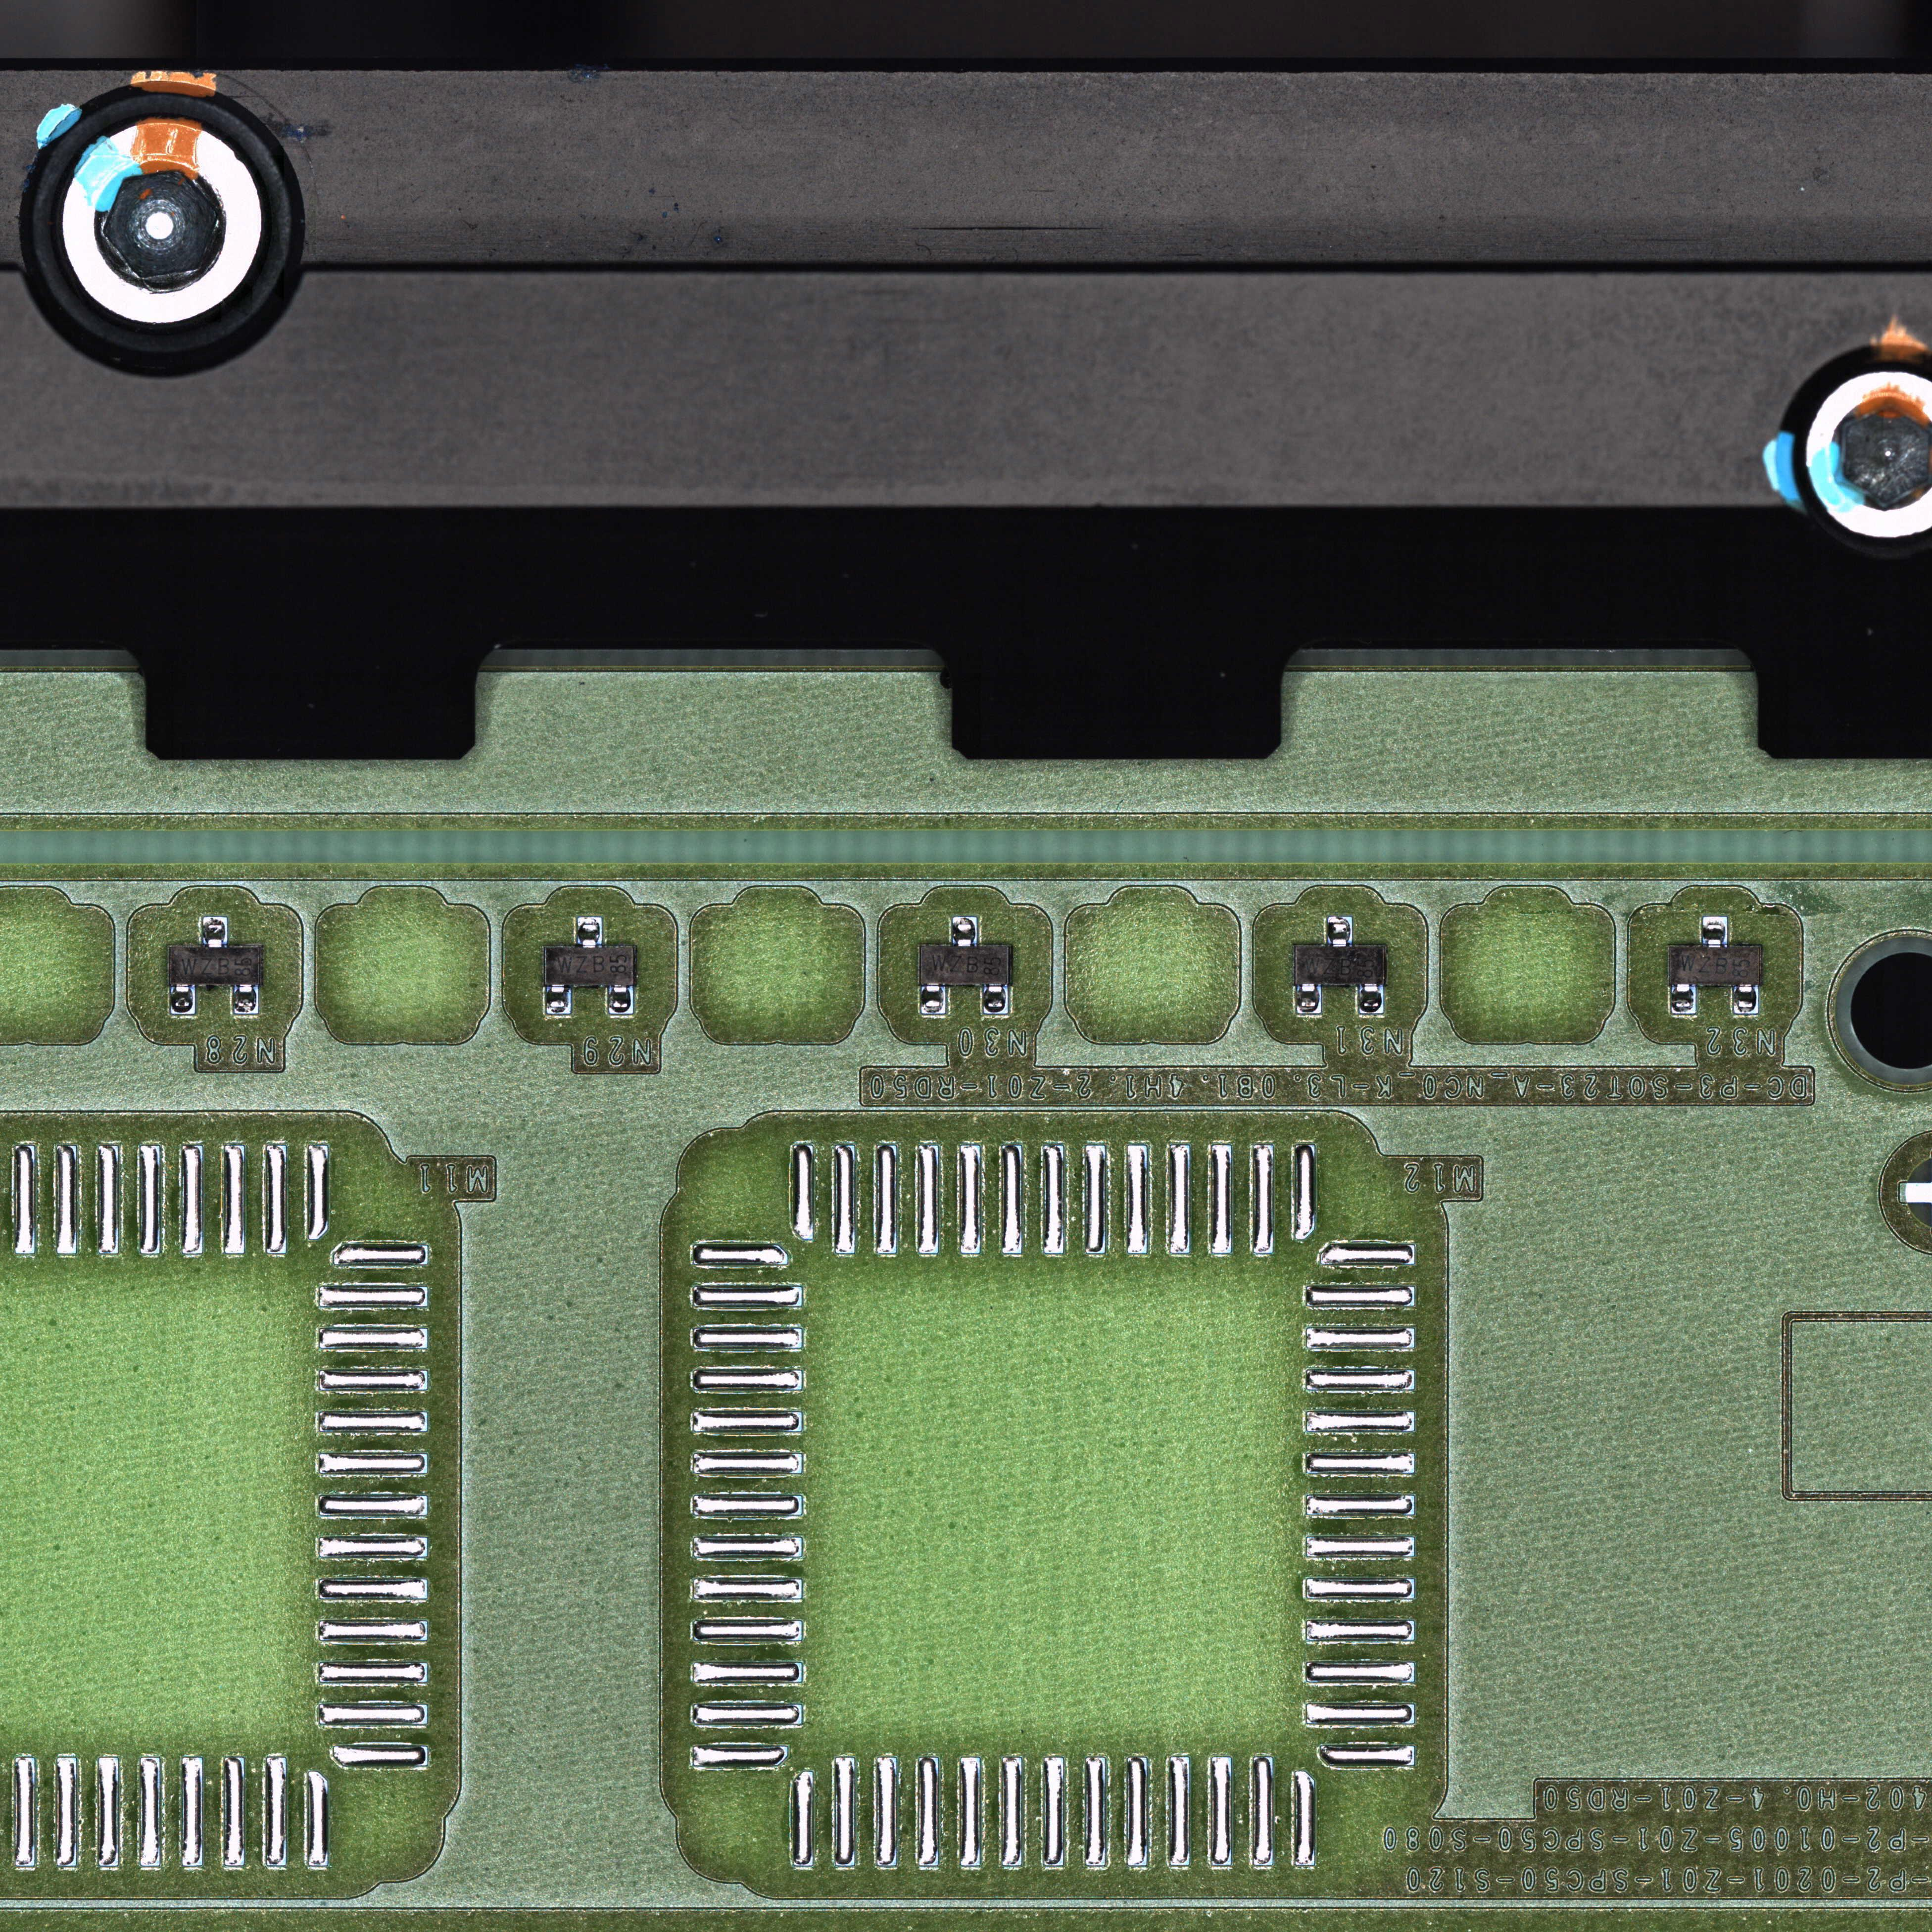Package: (920, 947, 1009, 984), (545, 948, 634, 984), (1295, 947, 1383, 983), (1670, 948, 1759, 984), (171, 948, 259, 984)
Solder: (983, 984, 1009, 1014), (1327, 917, 1352, 946), (1671, 984, 1696, 1014), (577, 917, 602, 948), (921, 984, 946, 1014), (1702, 917, 1727, 947), (1733, 984, 1758, 1014), (1359, 984, 1384, 1014), (546, 985, 571, 1014), (952, 917, 977, 947), (203, 917, 227, 948), (1297, 984, 1321, 1014), (609, 985, 633, 1014), (170, 985, 194, 1014), (233, 984, 256, 1013)
